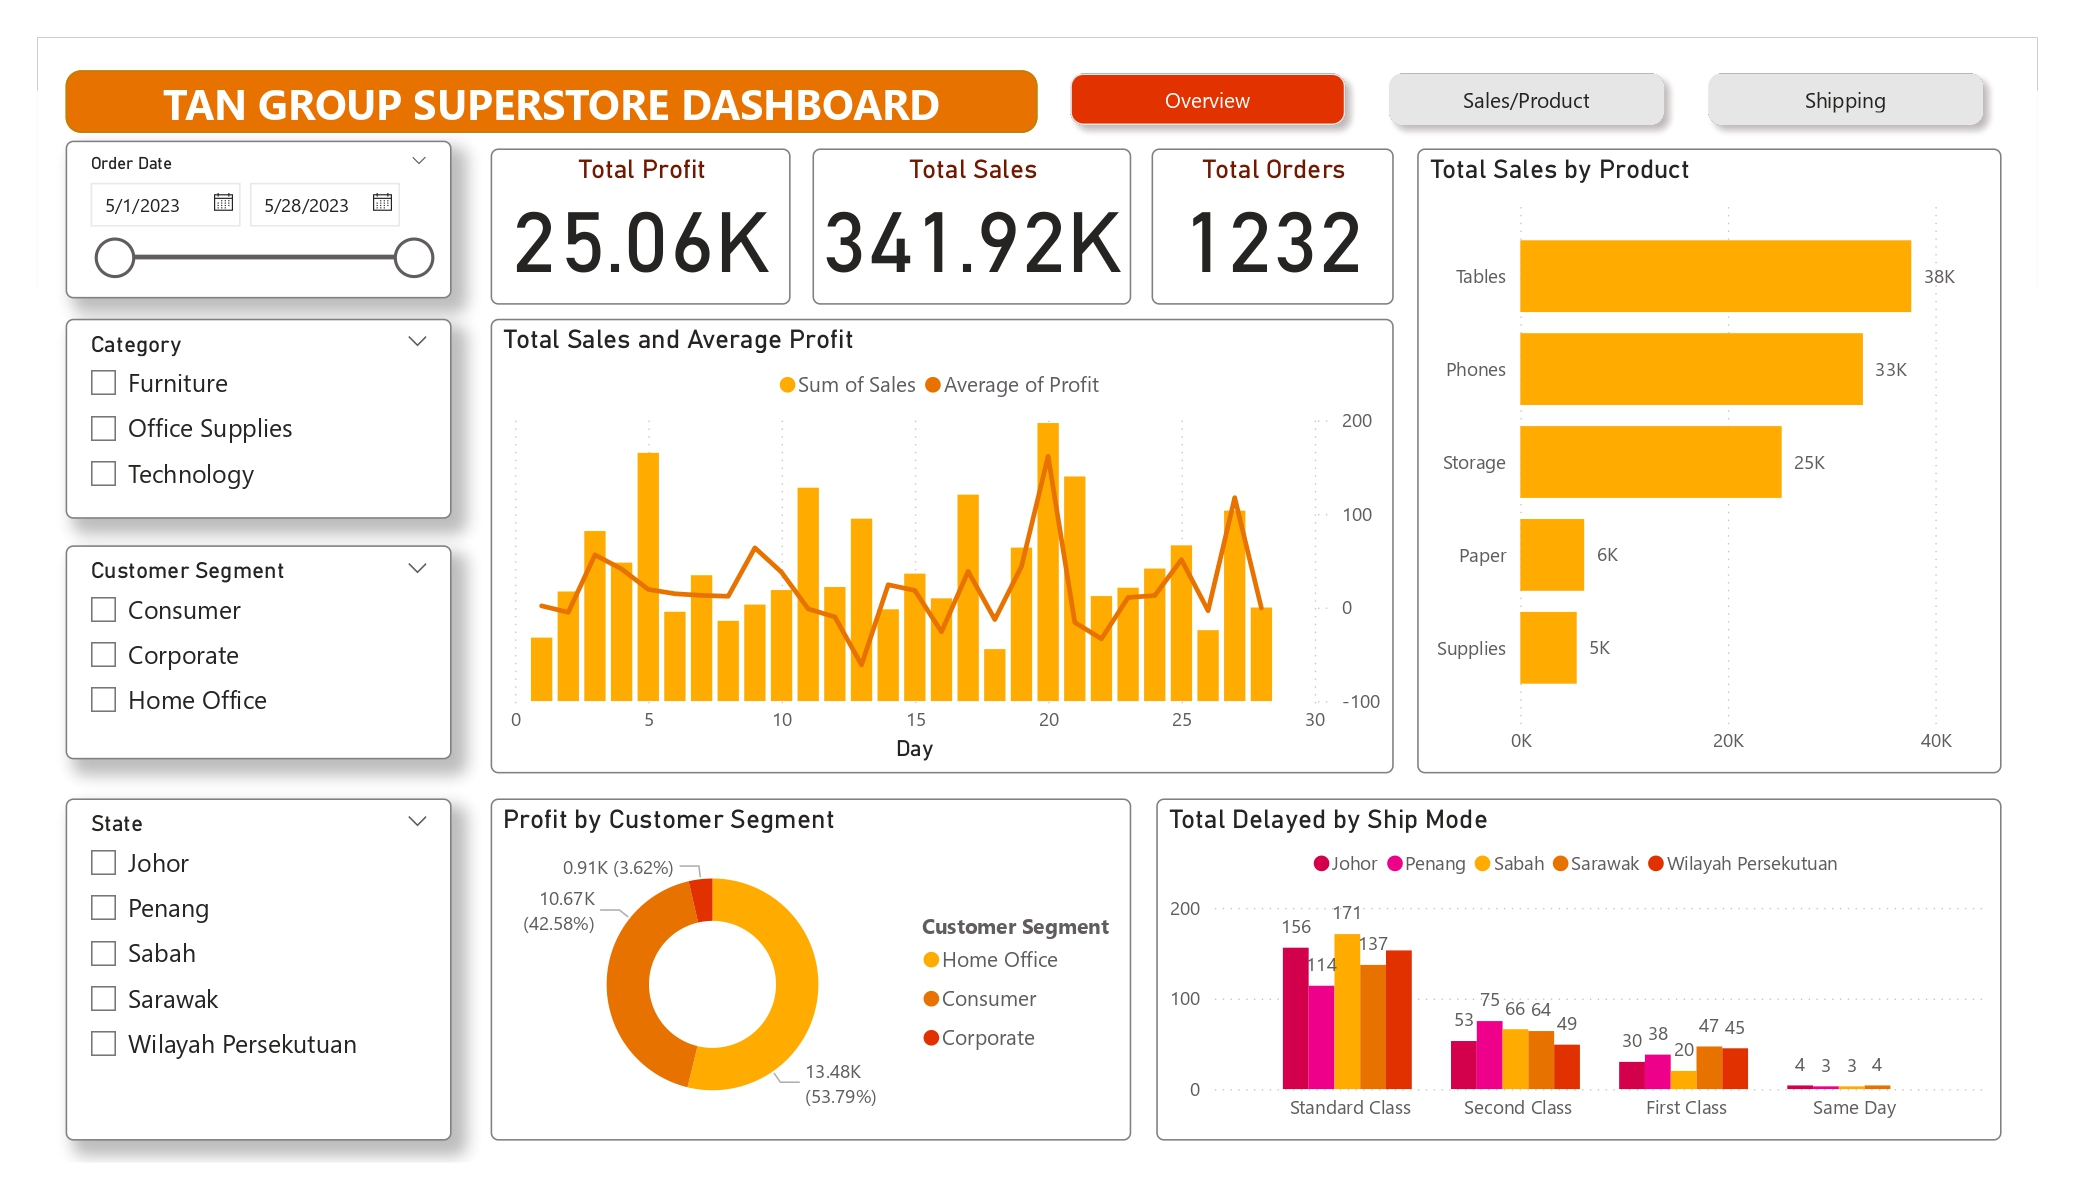

This screenshot's page, from the dashboard's own definition file:
{"tool":"powerbi","page":{"name":"Overview","canvas":[1280,720],"ordinal":0},"visuals":[{"type":"barChart","title":"Total Sales by Product","fields":{"Y":["Sum(Orders.Sales)"],"Category":["Orders.Product Name"]},"box":[883.2,70.9,373.7,400.2],"z":0},{"type":"donutChart","title":"Profit by Customer Segment","fields":{"Category":["Orders.Customer Segment"],"Y":["Sum(Orders.Profit)"]},"box":[289.8,487.1,410.7,218.7],"z":1000},{"type":"lineStackedColumnComboChart","title":"Total Sales and Average Profit","fields":{"Category":["Orders.Order Date.Variation.Date Hierarchy.Day"],"Y":["Sum(Orders.Sales)"],"Y2":["Avg(Orders.Profit)"]},"box":[289.8,179.6,577.8,291.6],"z":2000},{"type":"slicer","fields":{"Values":["Shipping.Order Date"]},"box":[17.8,65.8,247.1,101.3],"z":3000},{"type":"slicer","fields":{"Values":["Product.Category"]},"box":[17.8,179.6,247.1,128],"z":4000},{"type":"slicer","fields":{"Values":["Orders.Customer Segment"]},"box":[17.8,325.3,247.1,136.9],"z":5000},{"type":"kpi","title":"Total Sales","fields":{"Indicator":["Orders.Total Sales"],"TrendLine":["Orders.Order Date.Variation.Date Hierarchy.Month"]},"box":[496,71.1,204.4,99.6],"z":6000},{"type":"kpi","title":"Total Profit ","fields":{"Indicator":["Orders.Total Profit"],"TrendLine":["Orders.Order Date.Variation.Date Hierarchy.Month"]},"box":[289.8,71.1,192,99.6],"z":7000},{"type":"kpi","title":"Total Orders","fields":{"Indicator":["Orders.Total Orders"],"TrendLine":["Orders.Order Date.Variation.Date Hierarchy.Month"]},"box":[712.9,71.1,154.7,99.6],"z":8000},{"type":"pageNavigator","box":[652.4,14.2,604.4,51.6],"z":9000},{"type":"clusteredColumnChart","title":"Total Delayed by Ship Mode","fields":{"Category":["Shipping.Ship Mode"],"Y":["CountNonNull(Shipping.Is Delayed)"],"Series":["Shipping.State"]},"box":[716.4,487.2,540.7,218.3],"z":10000},{"type":"slicer","fields":{"Values":["Shipping.State"]},"box":[17.8,487.1,247.1,218.7],"z":11000},{"type":"shape","box":[17.7,20.7,621.8,39.9],"z":12000}]}

Visuals, with their boxes in screenshot pixels (x1, y1, x2, y2):
"Total Sales by Product" barChart: <region>1418, 148, 2001, 774</region>
"Profit by Customer Segment" donutChart: <region>490, 799, 1132, 1140</region>
"Total Sales and Average Profit" lineStackedColumnComboChart: <region>490, 318, 1393, 774</region>
slicer - Shipping.Order Date: <region>65, 140, 451, 299</region>
slicer - Product.Category: <region>65, 318, 451, 518</region>
slicer - Orders.Customer Segment: <region>65, 546, 451, 760</region>
"Total Sales" kpi: <region>812, 149, 1132, 304</region>
"Total Profit " kpi: <region>490, 149, 790, 304</region>
"Total Orders" kpi: <region>1151, 149, 1393, 304</region>
pageNavigator: <region>1057, 60, 2001, 140</region>
"Total Delayed by Ship Mode" clusteredColumnChart: <region>1157, 799, 2002, 1140</region>
slicer - Shipping.State: <region>65, 799, 451, 1140</region>
shape: <region>65, 70, 1037, 132</region>
